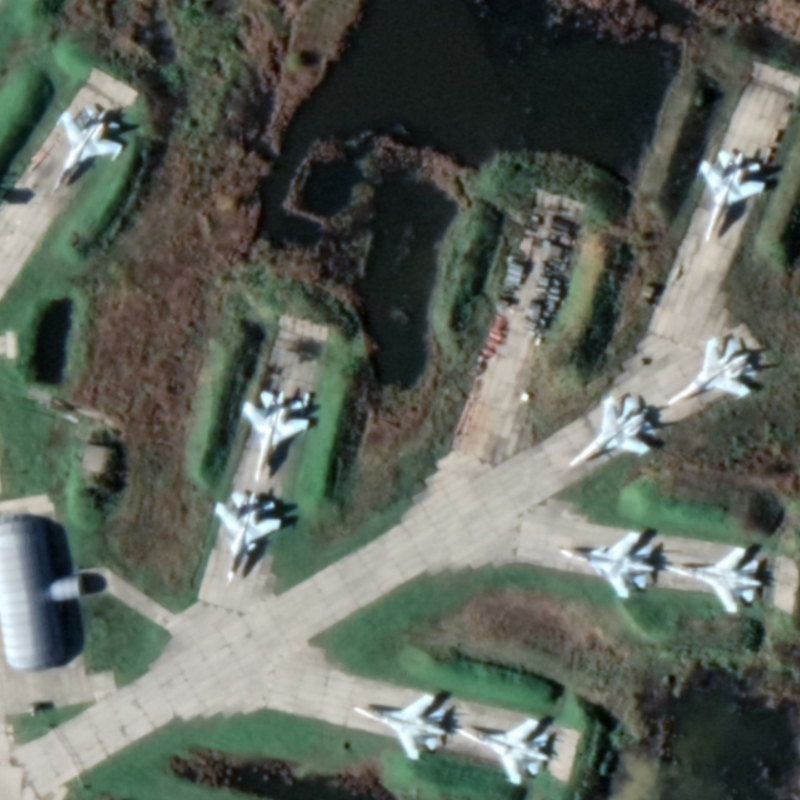A1: (661, 546, 765, 616), (452, 717, 551, 788), (568, 394, 657, 470), (697, 149, 767, 245), (352, 692, 448, 762), (665, 336, 758, 407), (240, 389, 311, 482), (51, 105, 124, 193)
A19: (557, 530, 657, 602), (212, 489, 284, 584)
